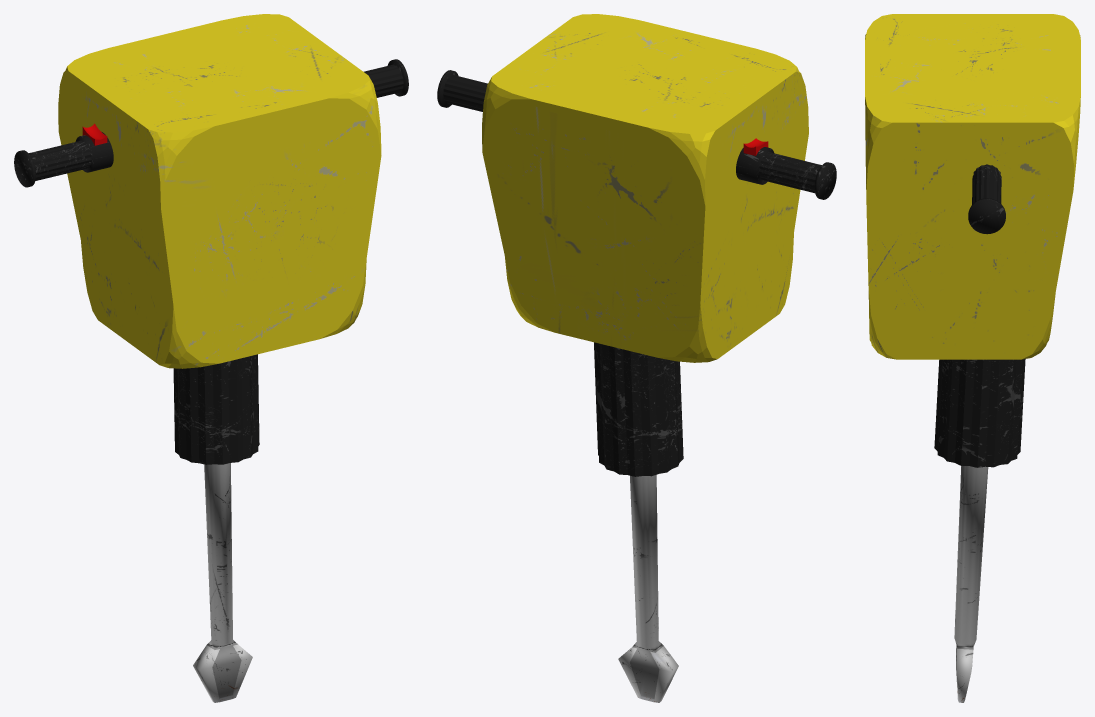
File: presslufthammer.fbx
3 renders of one model, left to right at view 1: azimuth 30°, elevation 25°; view 2: azimuth 150°, elevation 25°; view 3: azimuth 270°, elevation 25°, orthographic.
Visible parts, largest first — view 1: Cube, Cylinder.001, Cylinder, Cylinder.002, Cylinder.003, Cylinder.006, Cylinder.004; view 2: Cube, Cylinder.001, Cylinder, Cylinder.002, Cylinder.003, Cylinder.006, Cylinder.004; view 3: Cube, Cylinder.001, Cylinder, Cylinder.005, Cylinder.003.
Boxes of the visible parts, x1,y1,x2,y2 form: Cube: (58, 14, 381, 368); Cylinder.001: (173, 354, 259, 464); Cylinder: (193, 463, 252, 702); Cylinder.002: (29, 140, 91, 180); Cylinder.003: (364, 64, 403, 97); Cylinder.006: (75, 132, 113, 172); Cylinder.004: (14, 150, 35, 187); Cube: (482, 14, 808, 362); Cylinder.001: (594, 342, 683, 476); Cylinder: (618, 475, 678, 702); Cylinder.002: (758, 152, 821, 193); Cylinder.003: (443, 75, 487, 111); Cylinder.006: (736, 147, 773, 184); Cylinder.004: (814, 162, 836, 199); Cube: (865, 14, 1080, 359); Cylinder.001: (934, 359, 1025, 467); Cylinder: (954, 466, 988, 702); Cylinder.005: (968, 198, 1005, 234); Cylinder.003: (972, 164, 1001, 204).
Size of the model in its own units: 64.01 by 101 by 31.44.
Materials: 6 (6 with a texture image).
